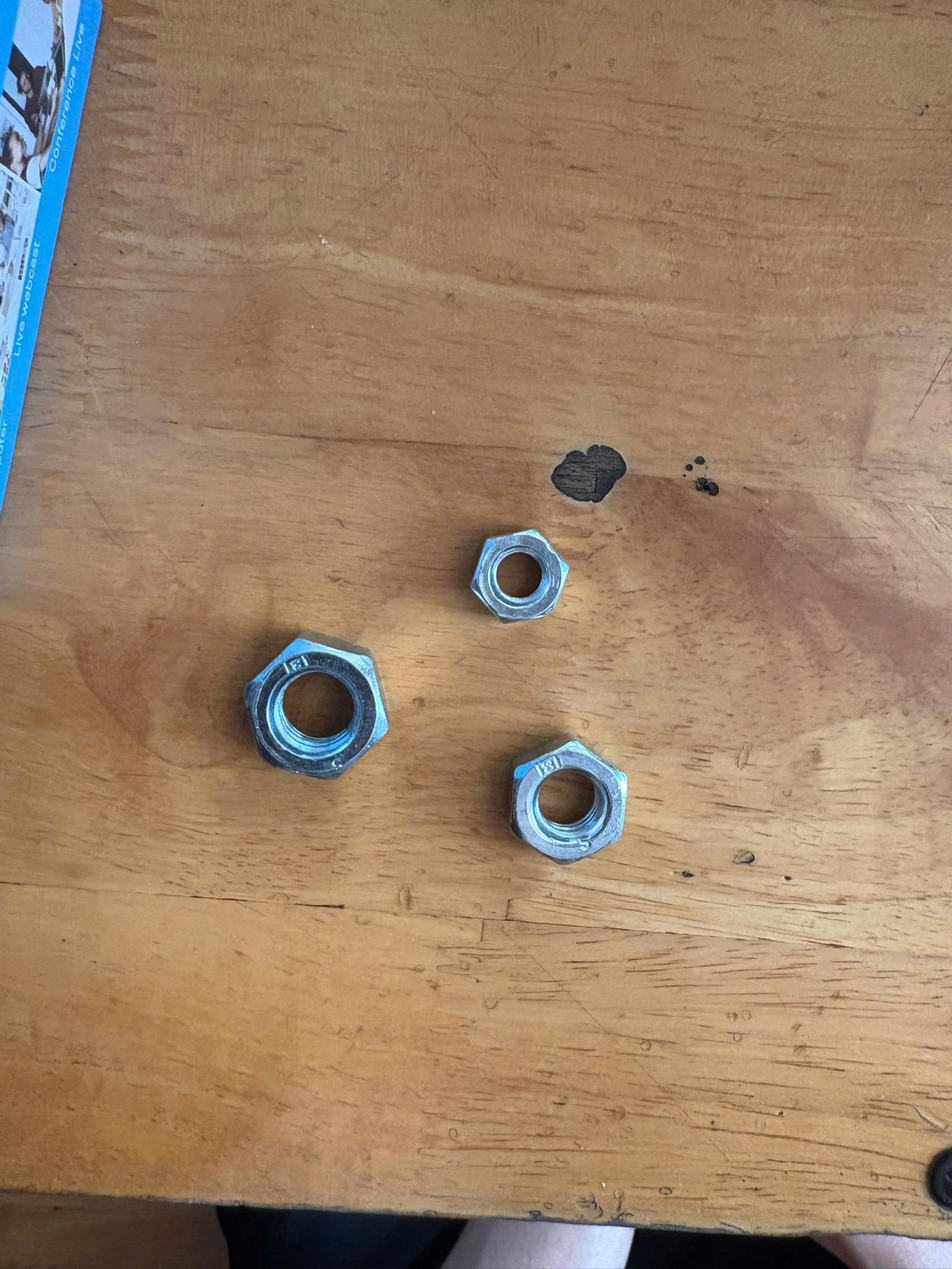nut: (236, 623, 395, 789), (469, 526, 569, 641)
